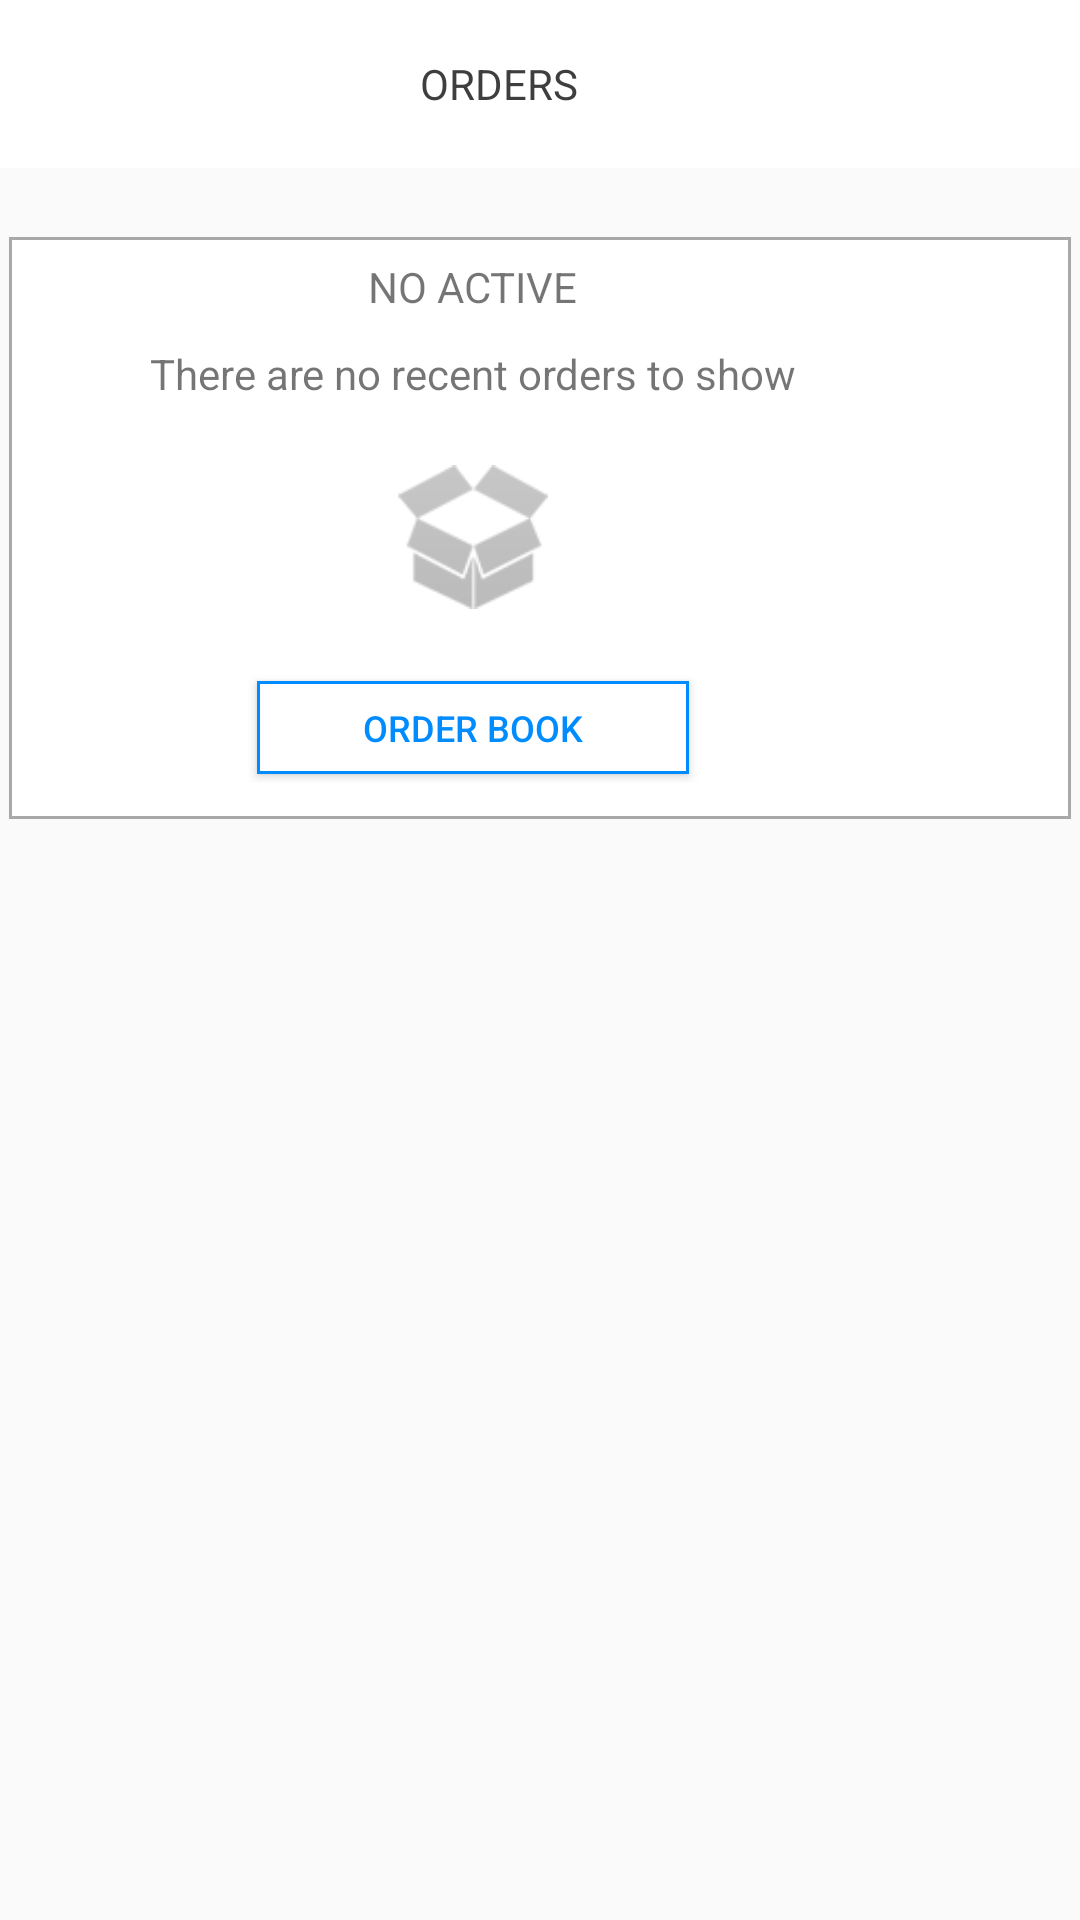

Where icons sit on this 1080 x 1920 app screen, as bbox=(x1, y1, x2, y2):
emptybox: bbox=(398, 465, 548, 609)
